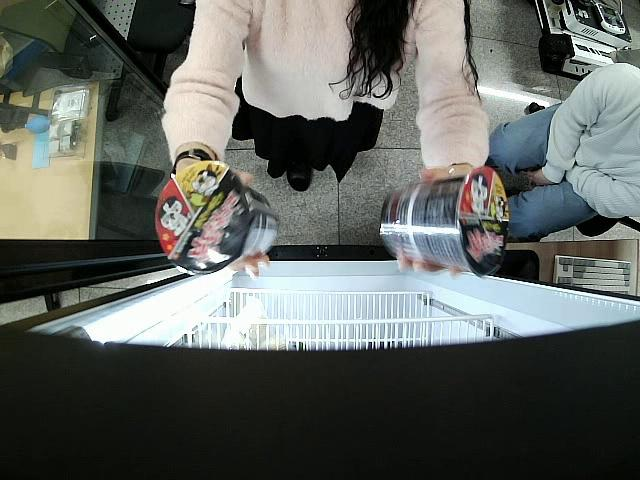00_hand: (396, 163, 468, 279), (225, 168, 273, 279)
08_buldak_S: (379, 167, 510, 281), (153, 162, 279, 274)
